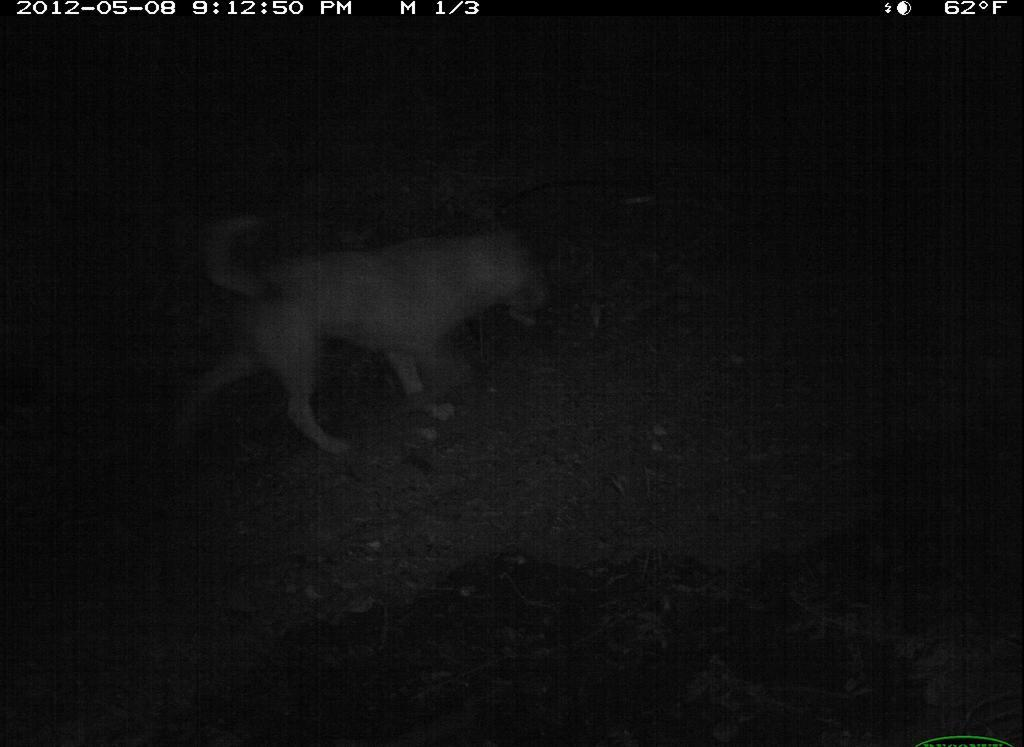dog: (157, 203, 550, 474)
